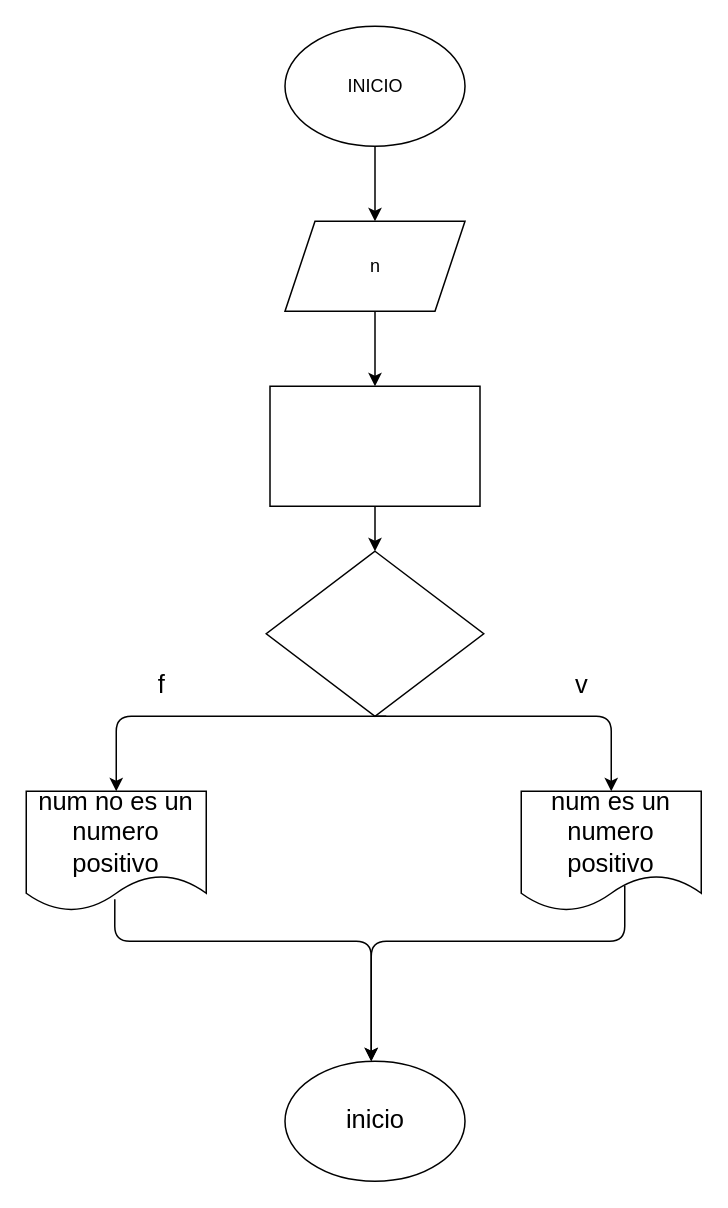
Some shapes in this 728 by 1208 pixel diagram are drawn without their labels. The centre of each missing label's shape, as x and y in pixels:
"last_digit = num" belongs at (x=374, y=445).
"num % 2 == 0" belongs at (x=374, y=633).
